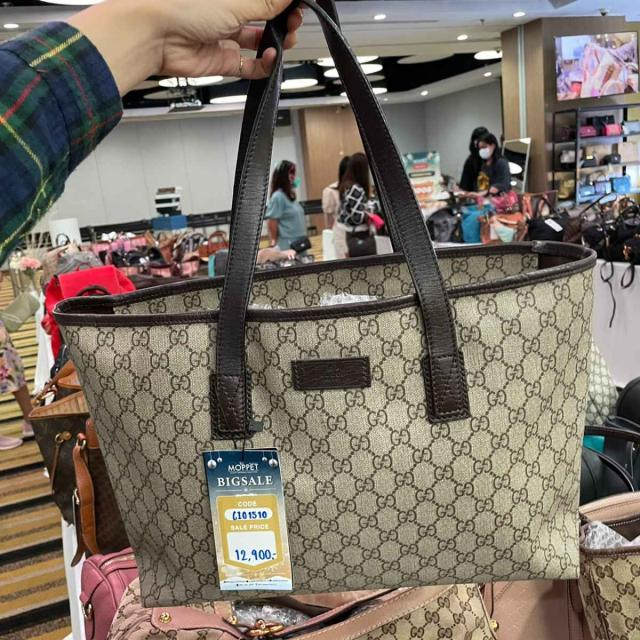handbag: (57, 222, 592, 619)
